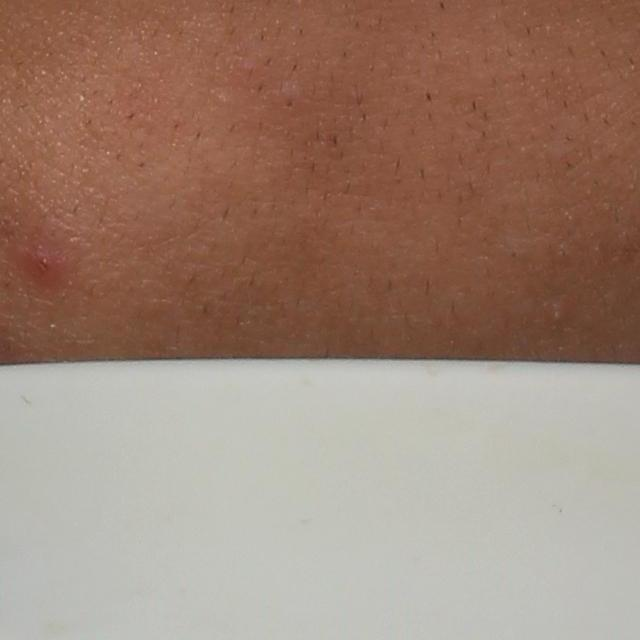papule: (18, 238, 64, 283)
